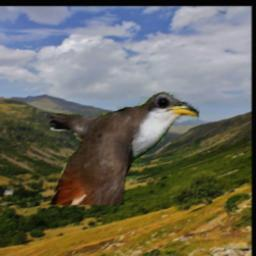Cuckoo: (51, 93, 199, 206)
